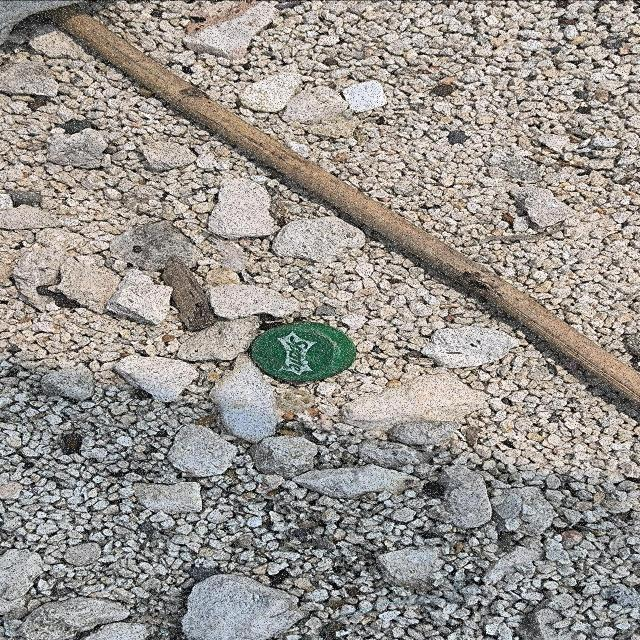plastic_waste: (248, 322, 356, 382)
